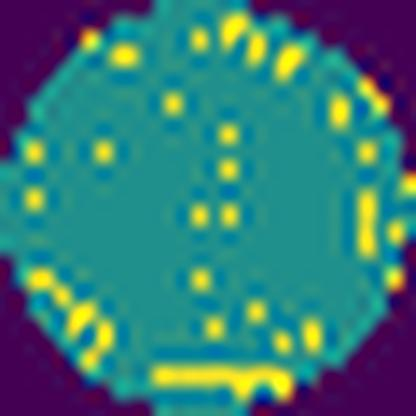Scratch: (146, 361, 297, 405), (354, 188, 380, 262)
